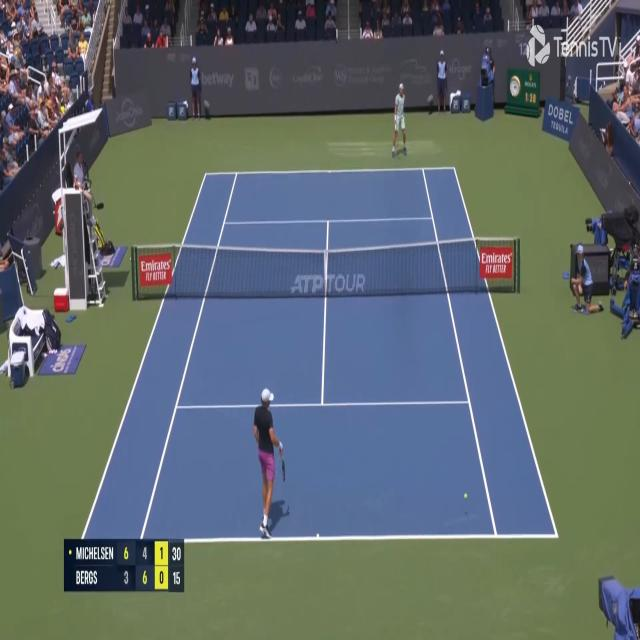tennis-player: (252, 385, 290, 541), (391, 81, 408, 158)
